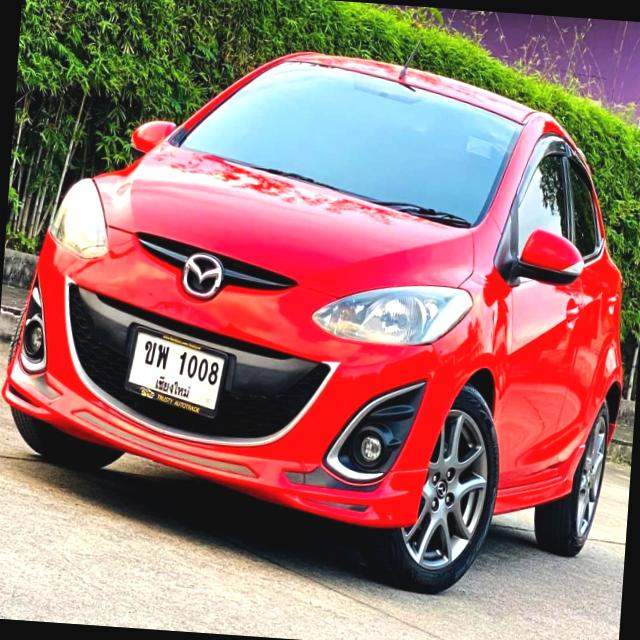license_plate: (117, 318, 234, 422)
